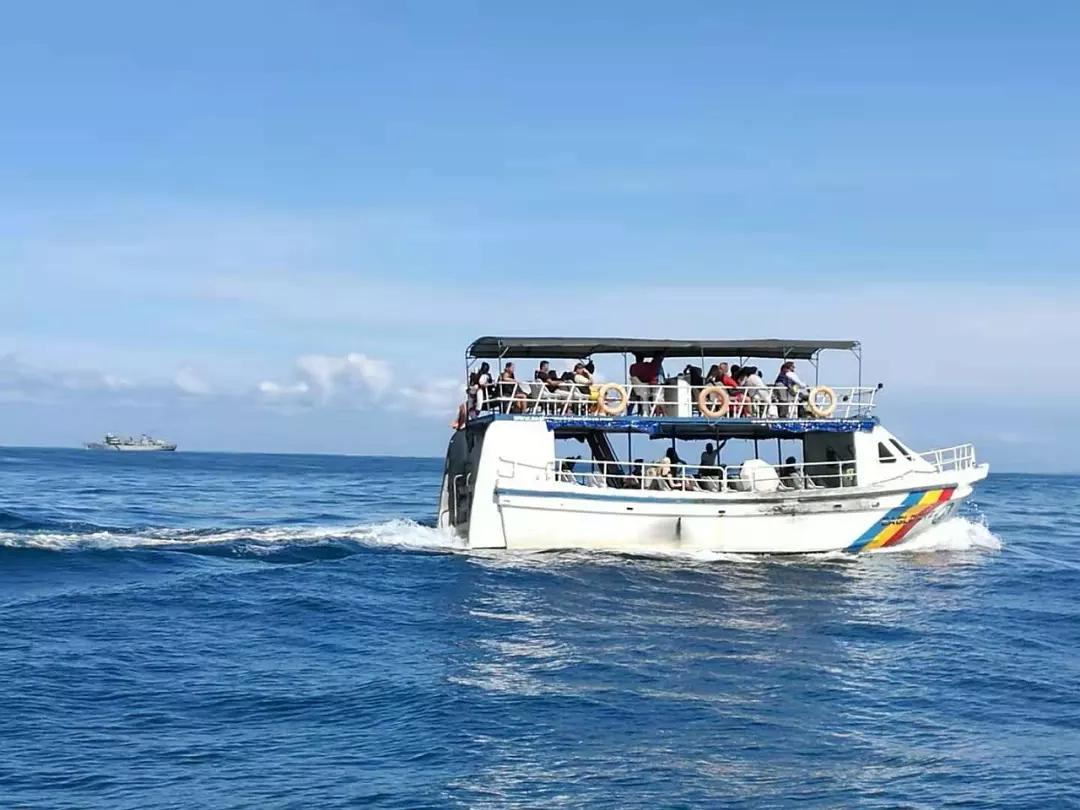otherboat: (405, 322, 985, 573)
